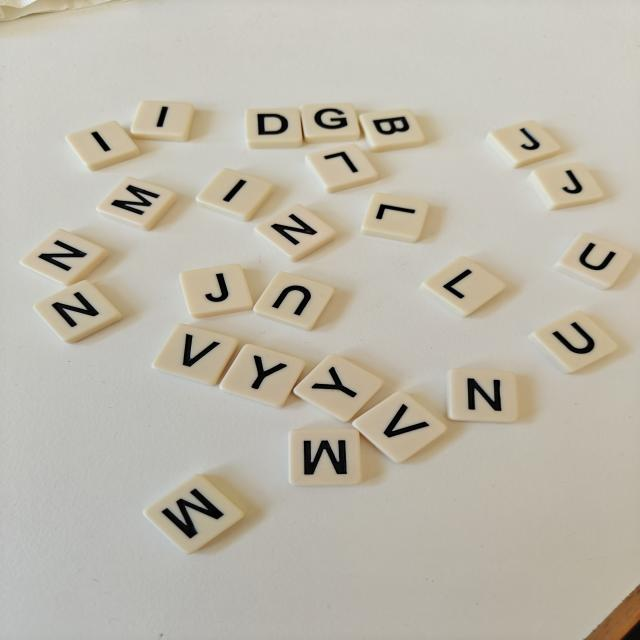b: (359, 109, 424, 152)
d: (245, 108, 303, 149)
g: (301, 102, 360, 144)
i: (196, 168, 273, 221), (66, 121, 139, 170), (131, 101, 195, 141)
j: (179, 264, 253, 318), (486, 120, 560, 168), (528, 163, 603, 210)
l: (420, 257, 505, 317), (306, 144, 378, 193), (361, 193, 429, 242)
m: (143, 475, 244, 553), (97, 178, 176, 230), (289, 429, 361, 486)
n: (34, 280, 121, 343), (21, 229, 108, 286), (254, 204, 335, 261), (447, 369, 517, 423)
u: (528, 311, 617, 373), (254, 272, 334, 330), (554, 233, 632, 289)
v: (352, 391, 447, 463), (152, 324, 238, 385)
y: (293, 354, 383, 422), (219, 344, 305, 407)
